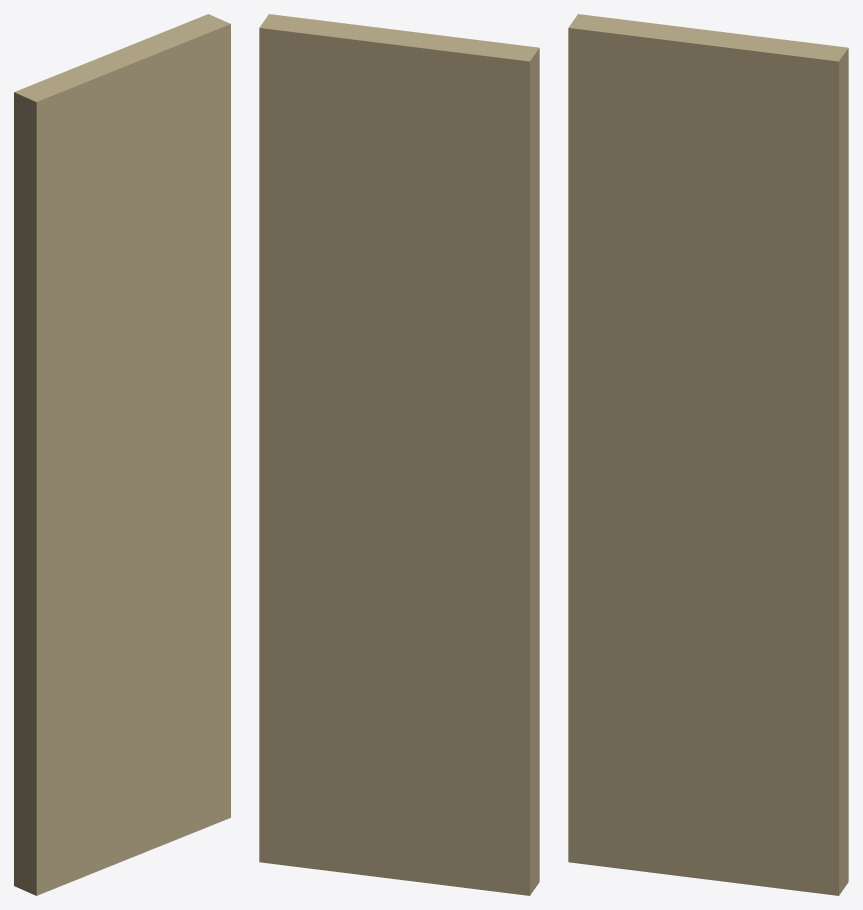
3 renders of one model, left to right at view 1: azimuth 30°, elevation 25°; view 2: azimuth 150°, elevation 25°; view 3: azimuth 330°, elevation 25°, orthographic. The views are drawn at different scales.
Parts seen in each view (by area): view 1: GF-W029; view 2: GF-W029; view 3: GF-W029.
Boxes of the visible parts, box(x1,y1,x2,y2) form: GF-W029: box(14, 14, 230, 895); GF-W029: box(259, 14, 539, 895); GF-W029: box(568, 14, 848, 895).
Size of the model in its own units: 0.7419 by 2.42 by 0.2616.
